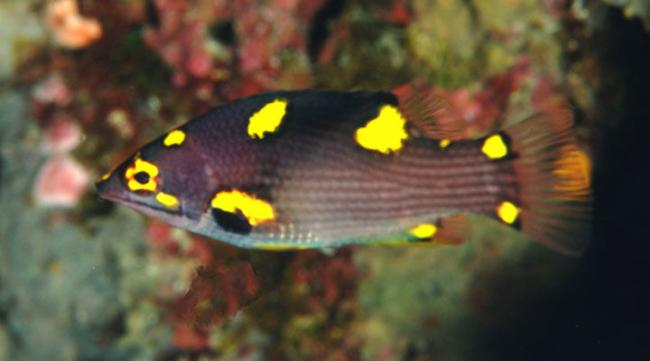fish: (95, 89, 591, 258)
